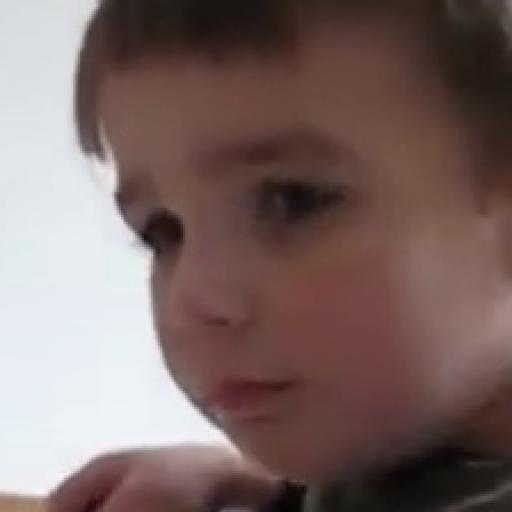Autism: (77, 19, 512, 480)
